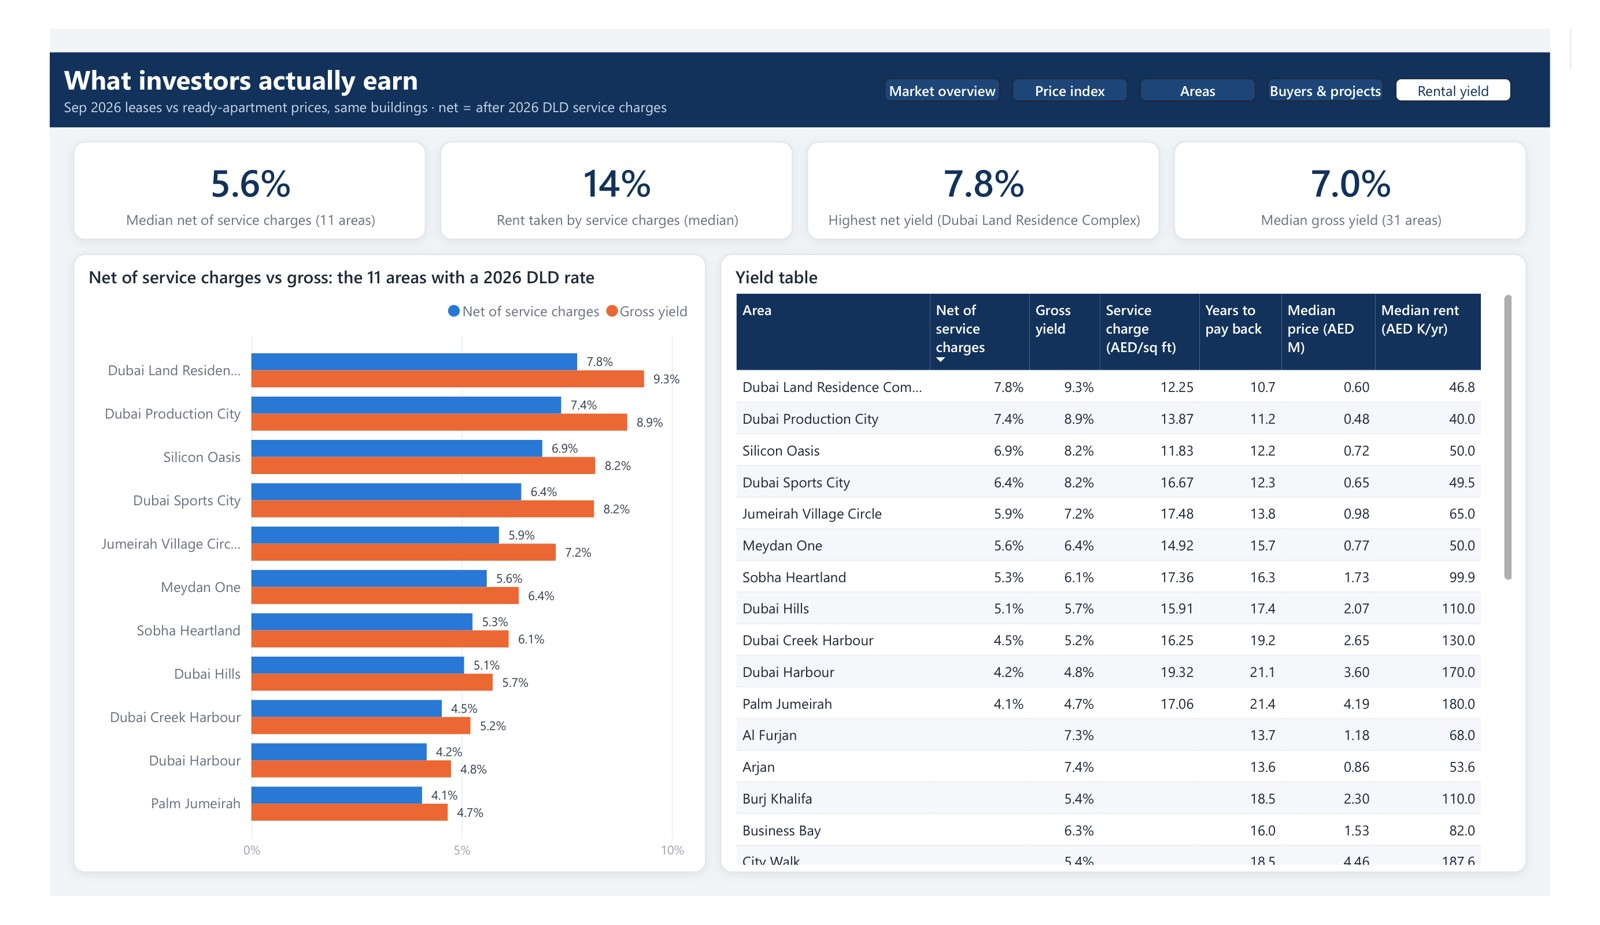

What the dashboard file says about the page in this screenshot:
{"tool":"powerbi","page":{"name":"Rental yield","canvas":[1280,720],"ordinal":4},"visuals":[{"type":"textbox","box":[0,0,1280,64],"z":39000},{"type":"pageNavigator","box":[700,14,560,36],"z":40000},{"type":"card","fields":{"Values":["_Measures.Median Gross Yield"]},"box":[20,76,405,84],"z":41000},{"type":"card","fields":{"Values":["_Measures.Best Gross Yield"]},"box":[437,76,405,84],"z":42000},{"type":"card","fields":{"Values":["_Measures.Areas Measured"]},"box":[855,76,405,84],"z":43000},{"type":"clusteredBarChart","title":"Gross rental yield by area","fields":{"Category":["fact_rent_yield.area"],"Y":["_Measures.Gross Yield %"]},"box":[20,172,540,528],"z":44000},{"type":"tableEx","title":"Yield table","fields":{"Values":["fact_rent_yield.area","_Measures.Gross Yield %","_Measures.Years of Rent to Buy","fact_rent_yield.median_price_aed_m","fact_rent_yield.median_annual_rent_aed_k","fact_rent_yield.buildings"]},"box":[572,172,688,528],"z":45000}]}

Visuals, with their boxes in screenshot pixels (x1, y1, x2, y2), scaled from the page's 1280x720 canvas onto the 1600x925 screenshot:
textbox: 0, 0, 1599, 82
pageNavigator: 875, 18, 1575, 64
card - _Measures.Median Gross Yield: 25, 98, 531, 206
card - _Measures.Best Gross Yield: 546, 98, 1052, 206
card - _Measures.Areas Measured: 1069, 98, 1575, 206
"Gross rental yield by area" clusteredBarChart: 25, 221, 700, 899
"Yield table" tableEx: 715, 221, 1575, 899
